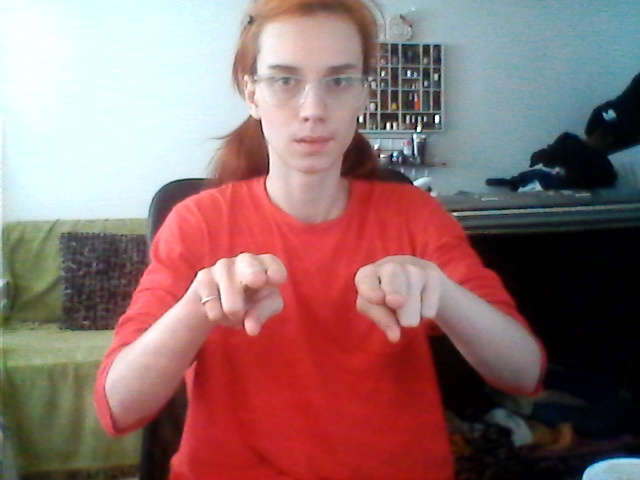brat: (200, 237, 444, 358)
